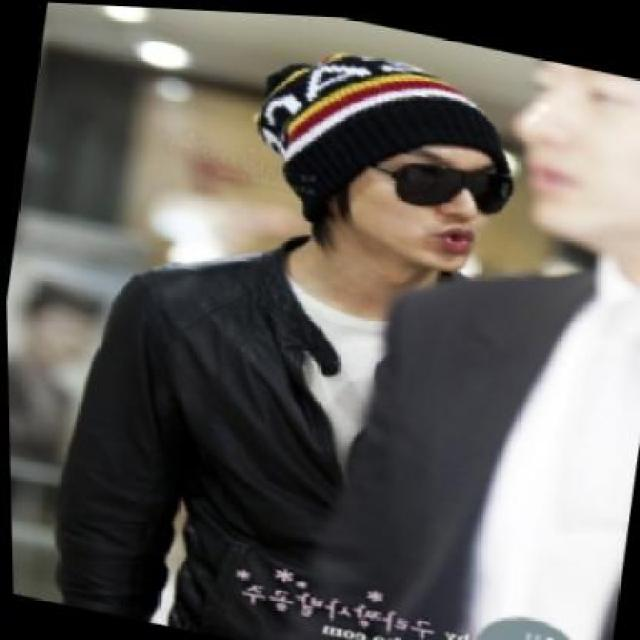hat: (238, 27, 522, 255)
